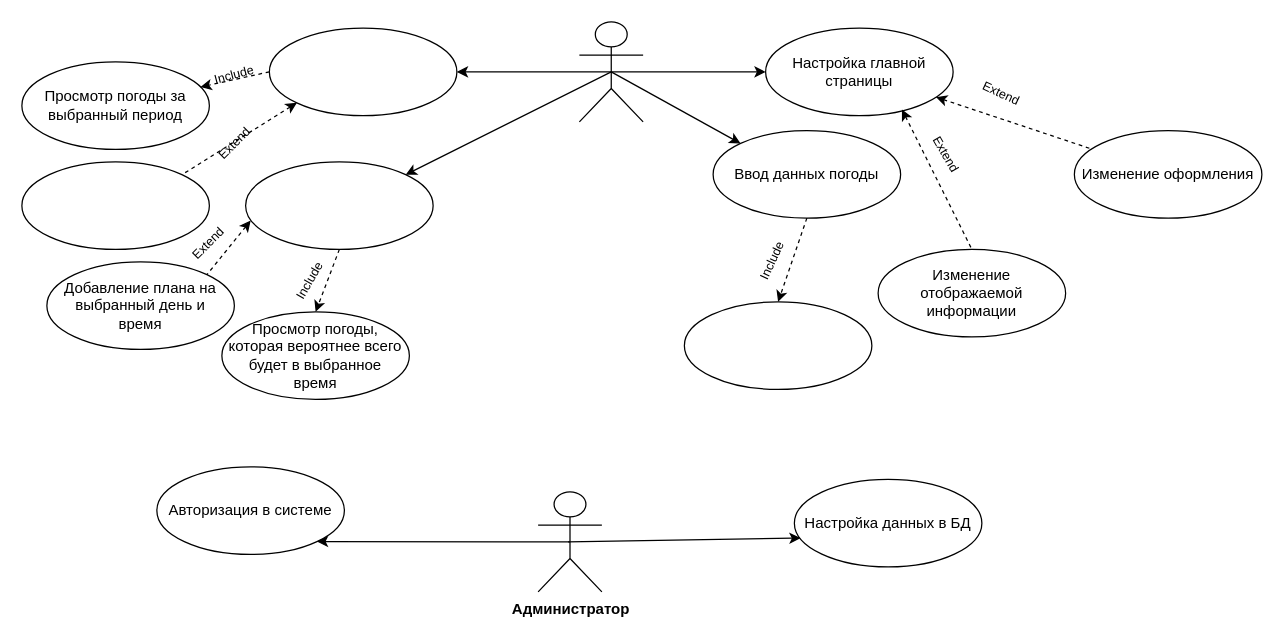
Some shapes in this 1284 by 640 pixel diagram are drawn without their labels. Here are the shapes that lost their labels. From the top down, the box of each, then its label:
(268, 27, 457, 116): Просмотр погоды
(578, 21, 643, 122): Пользователь
(21, 161, 209, 249): Скачивание погоды в виде таблицы
(244, 161, 433, 249): Планирование дел в соответствии с погодой
(683, 301, 872, 389): Получение ближайших дат с данными показателями
